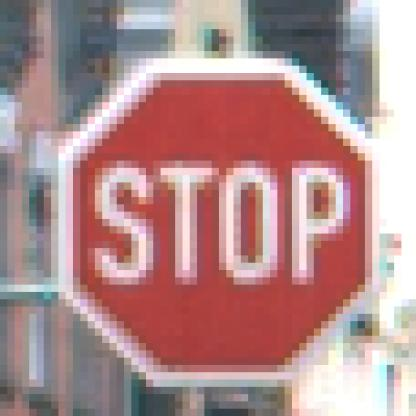stop: (59, 50, 392, 385)
